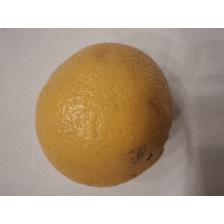Orange: (34, 41, 176, 189)
